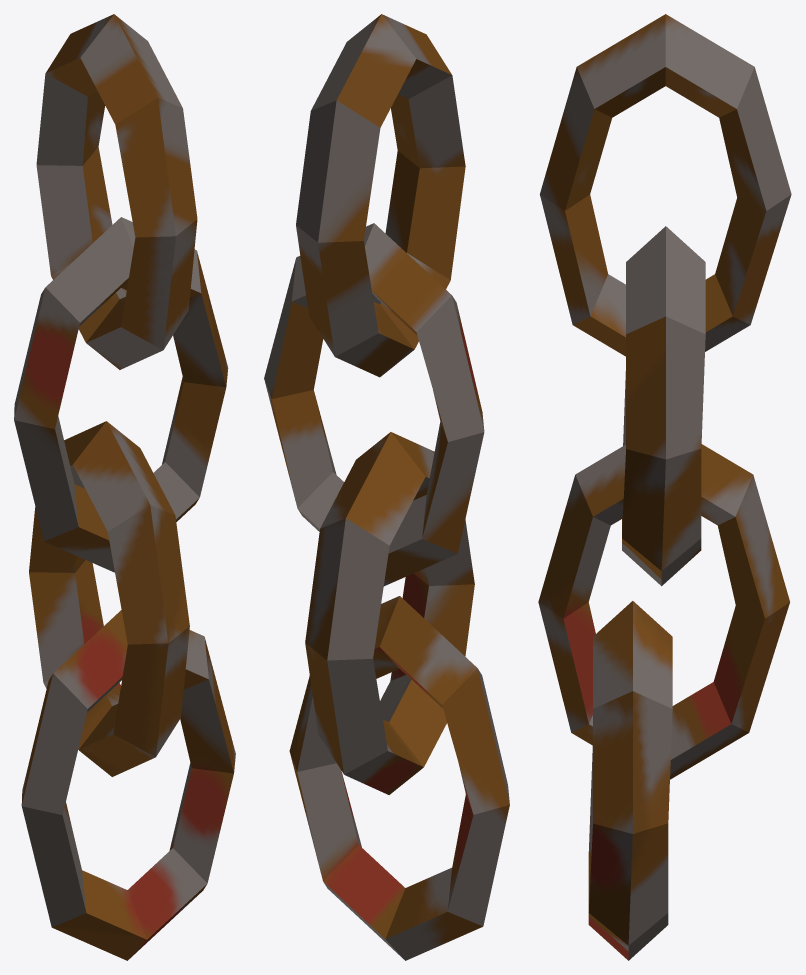
File: SM_cenario_corrente1.glb
The picture shows the model from 3 angles, left to right: view 1: azimuth 30°, elevation 25°; view 2: azimuth 150°, elevation 25°; view 3: azimuth 270°, elevation 25°; orthographic projection. The views are drawn at different scales.
Visible parts, largest first — view 1: Toróide, Toróide.003, Toróide.002, Toróide.001; view 2: Toróide, Toróide.003, Toróide.002, Toróide.001; view 3: Toróide, Toróide.003, Toróide.002, Toróide.001.
Part boxes in pixels (left/top/right/bottom): Toróide: left=36, top=14, right=197, bottom=369; Toróide.003: left=29, top=421, right=189, bottom=776; Toróide.002: left=21, top=610, right=235, bottom=960; Toróide.001: left=14, top=217, right=228, bottom=572; Toróide: left=296, top=14, right=465, bottom=377; Toróide.003: left=305, top=432, right=474, bottom=794; Toróide.002: left=289, top=596, right=509, bottom=960; Toróide.001: left=264, top=223, right=484, bottom=586; Toróide: left=540, top=14, right=791, bottom=356; Toróide.003: left=538, top=444, right=789, bottom=779; Toróide.002: left=588, top=601, right=672, bottom=960; Toróide.001: left=622, top=226, right=705, bottom=586.
Bounding box in the file's own units: 1.61 × 6.45 × 1.56.
Materials: 1 (1 with a texture image).
